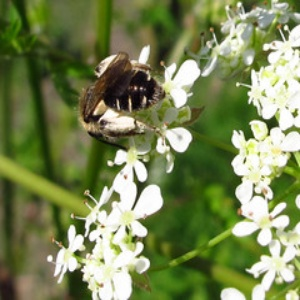bee: (91, 53, 165, 112)
